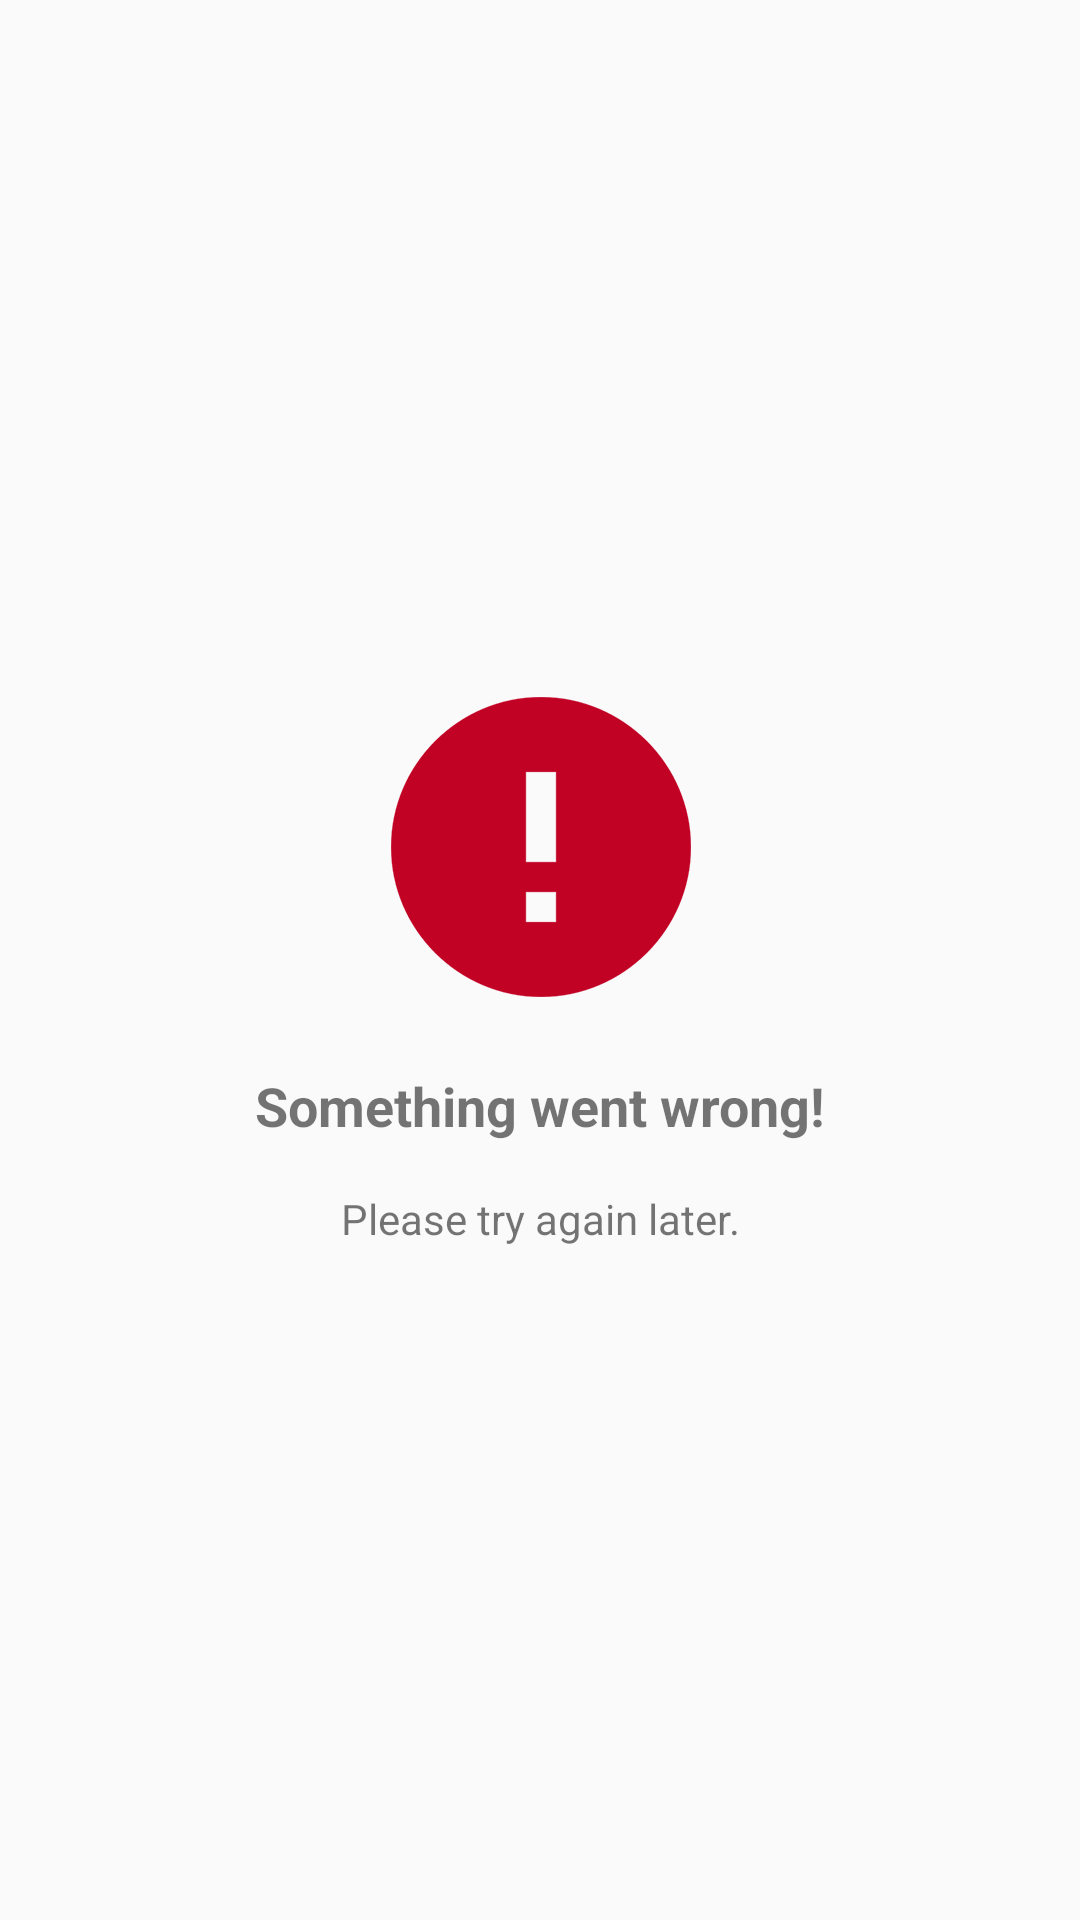

Icons on this 1080x1920 Android screen, each with its box as [x1, y1, x2, y2]:
error: [391, 697, 691, 997]
